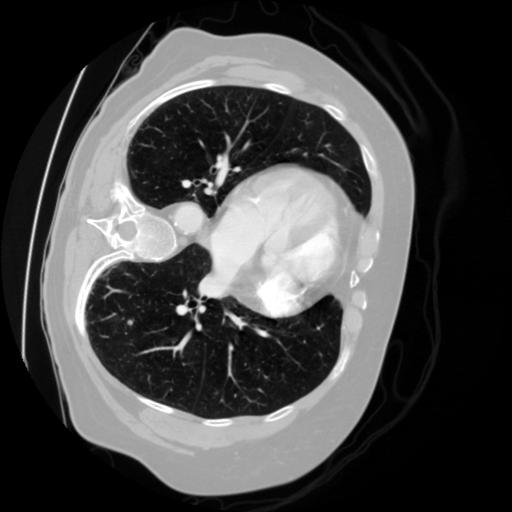nodule: (124, 318, 137, 331)
